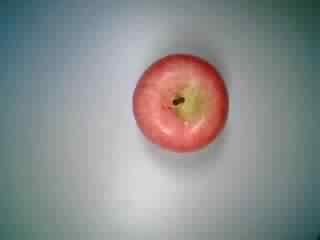apple: (128, 55, 233, 157)
